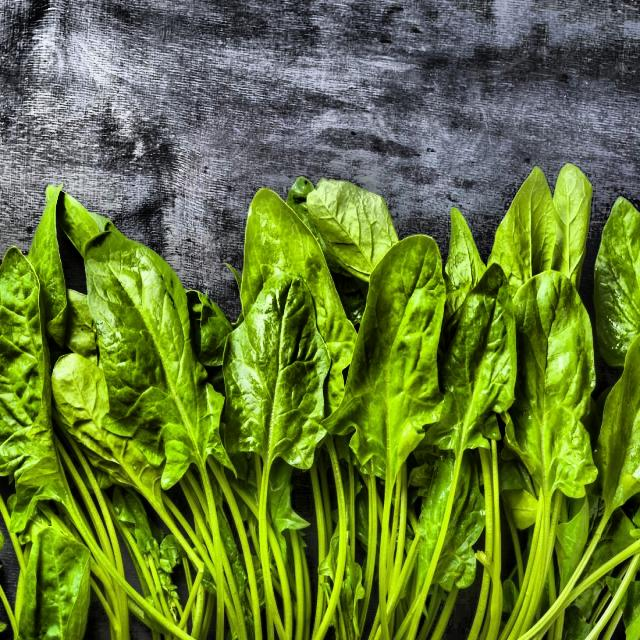spinach: (47, 232, 611, 588)
